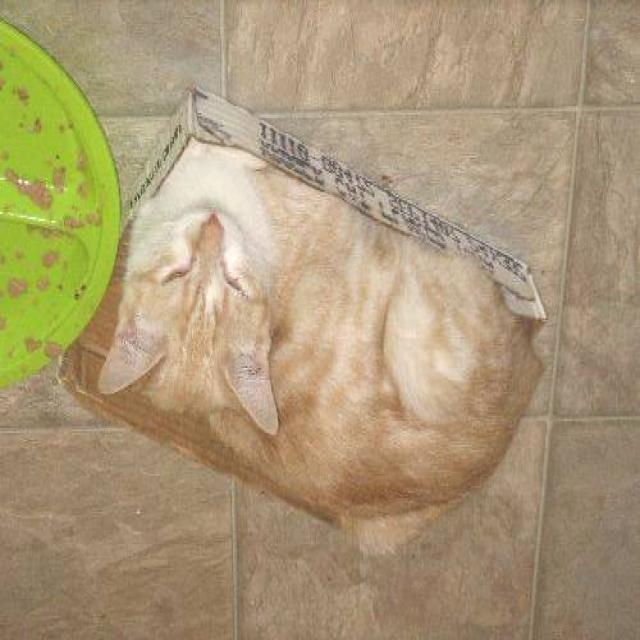Kucing: (61, 137, 590, 537)
